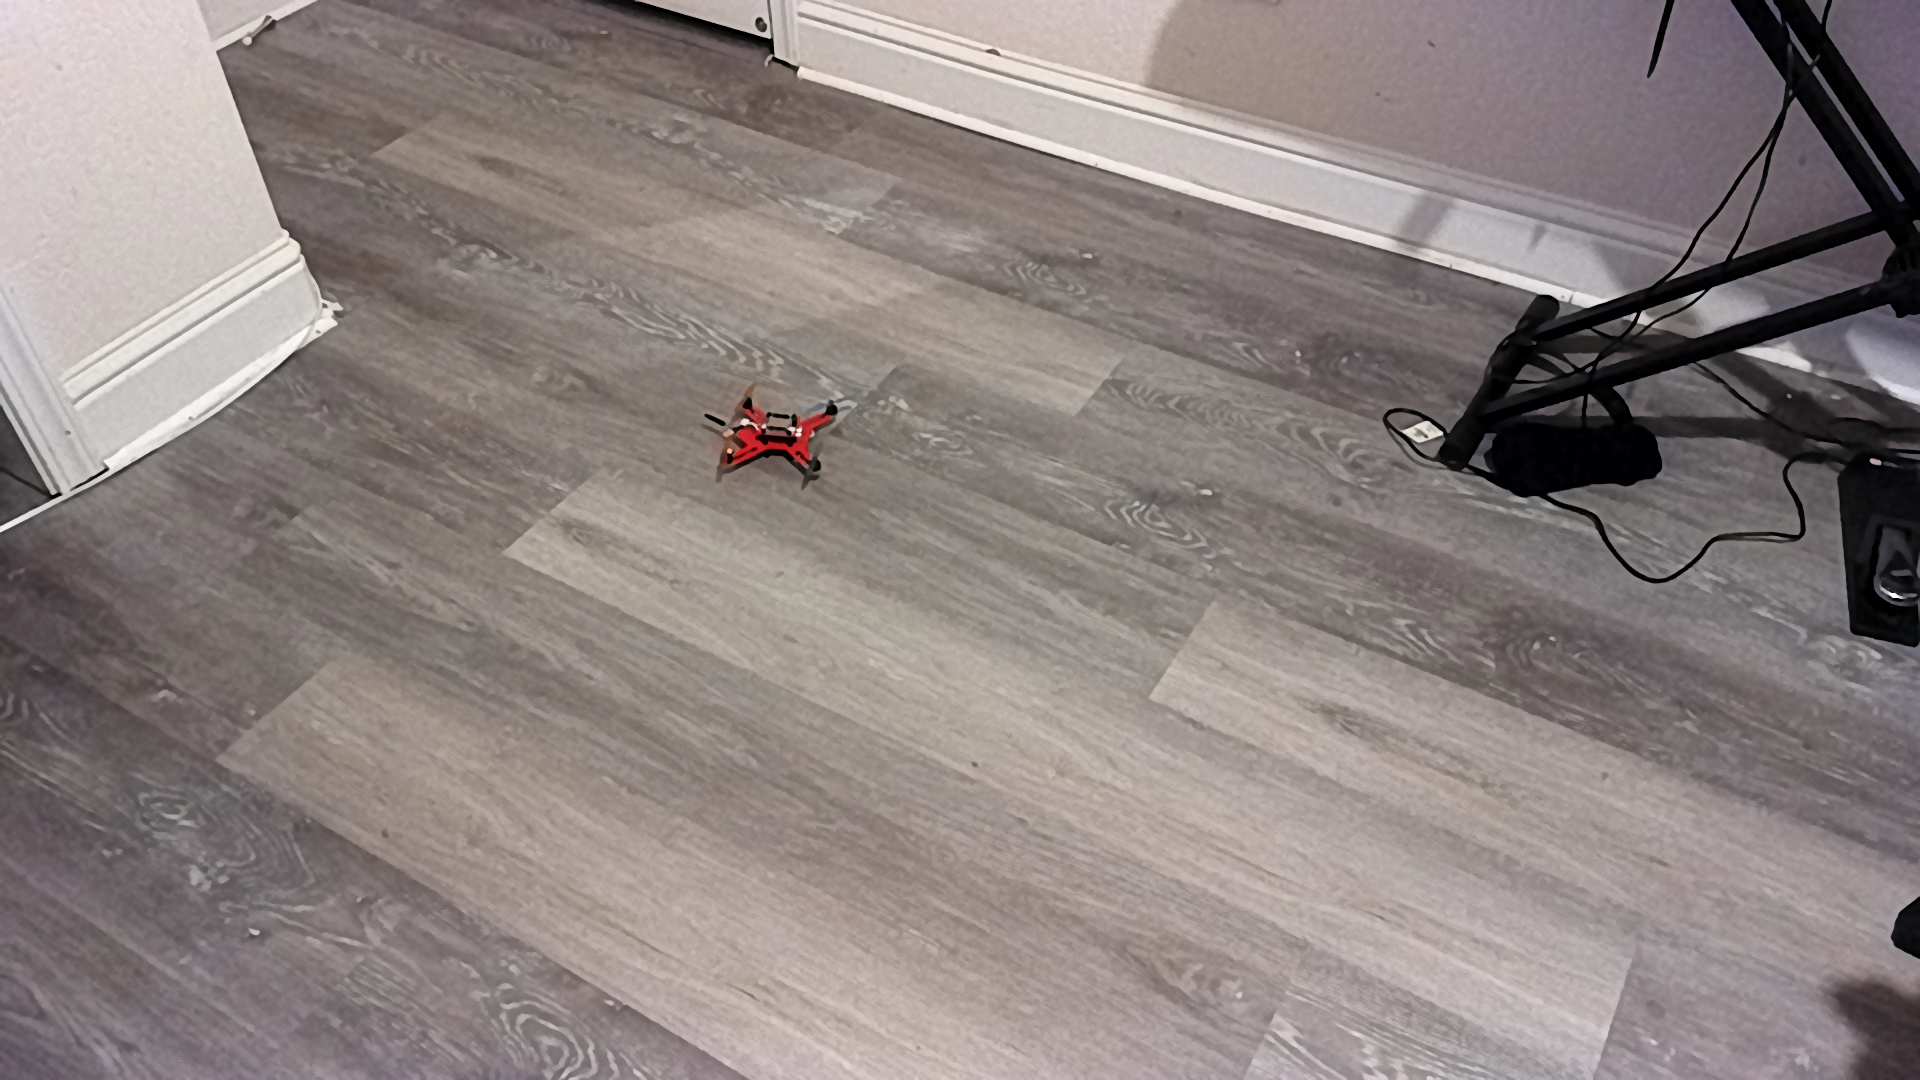drone: (704, 381, 858, 504)
